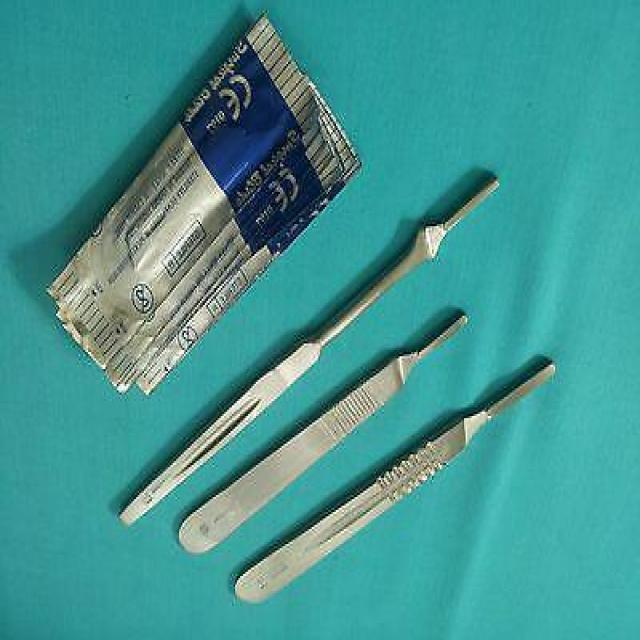Scalpel: (115, 162, 504, 533), (229, 349, 560, 616), (174, 302, 473, 564)
